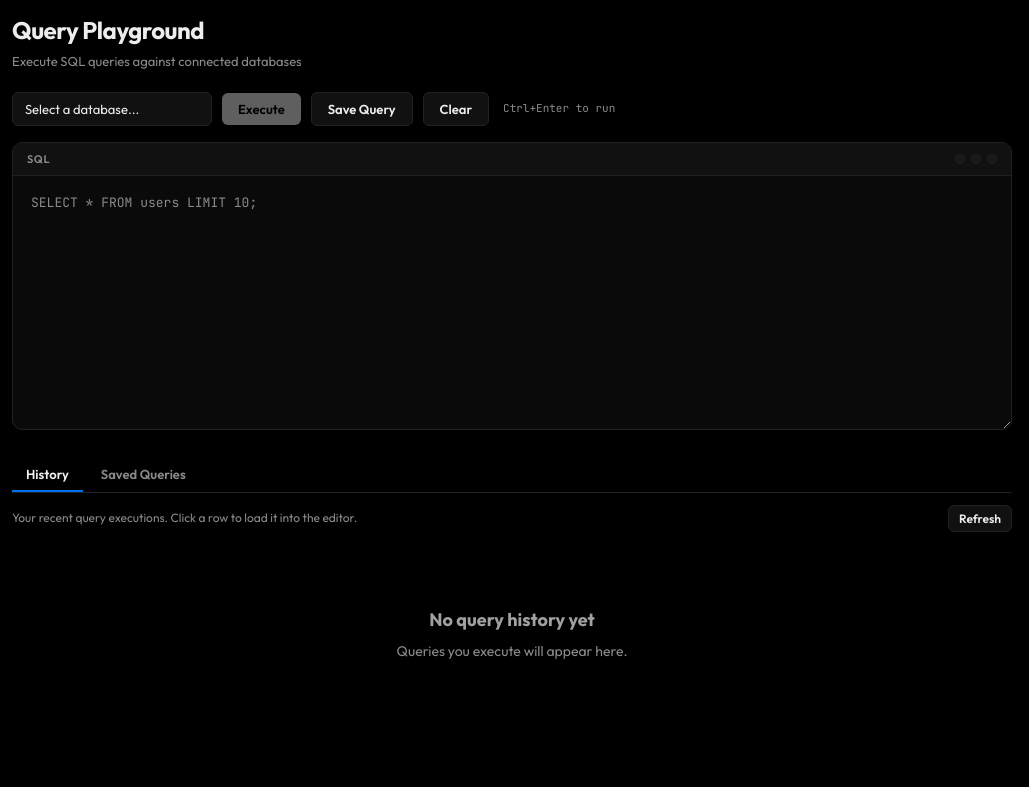
Test: QueryPlayground › clears editor text and stale results
Select "test-db" in the dropdown named "Database" at (112, 108), box x1=12 y1=92 x2=212 y2=126
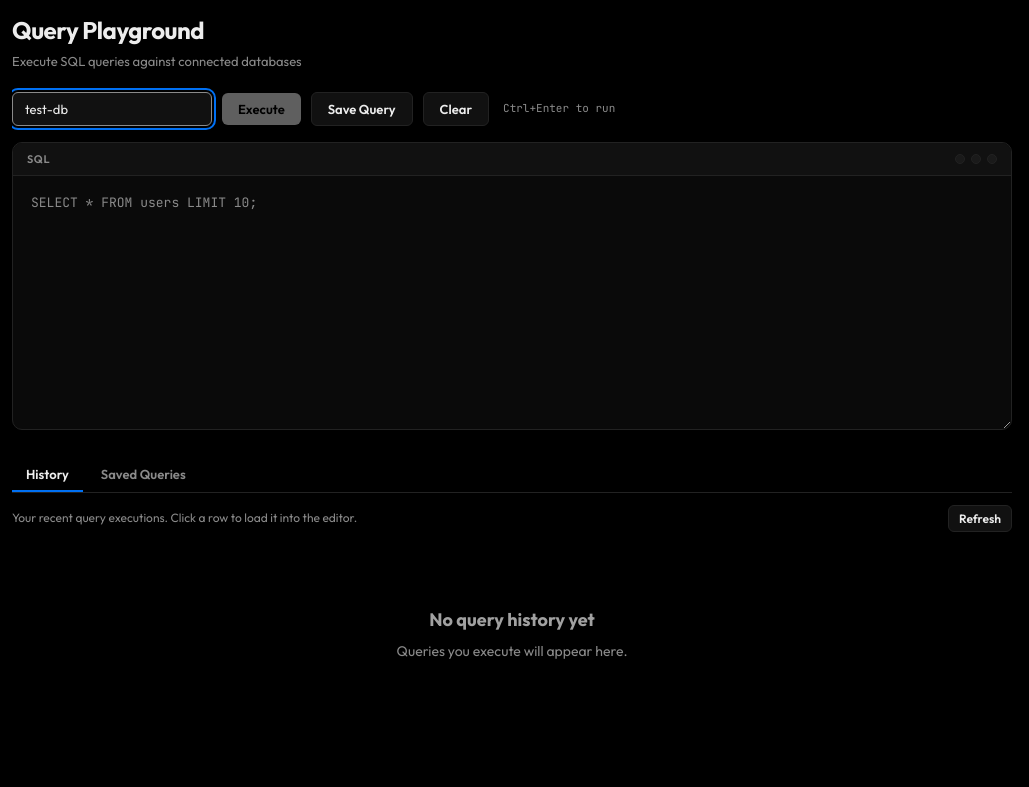
Type "SELECT * FROM users" into the text box named "SQL editor" at (512, 302), box x1=13 y1=176 x2=1011 y2=429
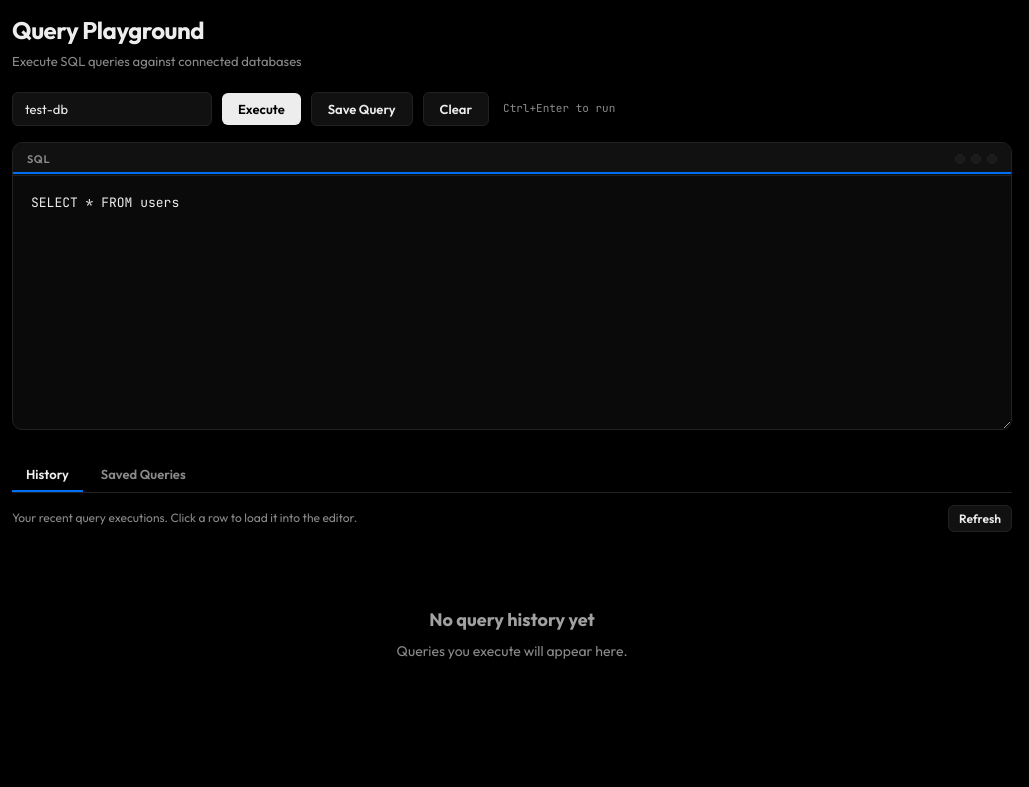
Click the button "Execute" at (261, 108), box x1=222 y1=92 x2=301 y2=124
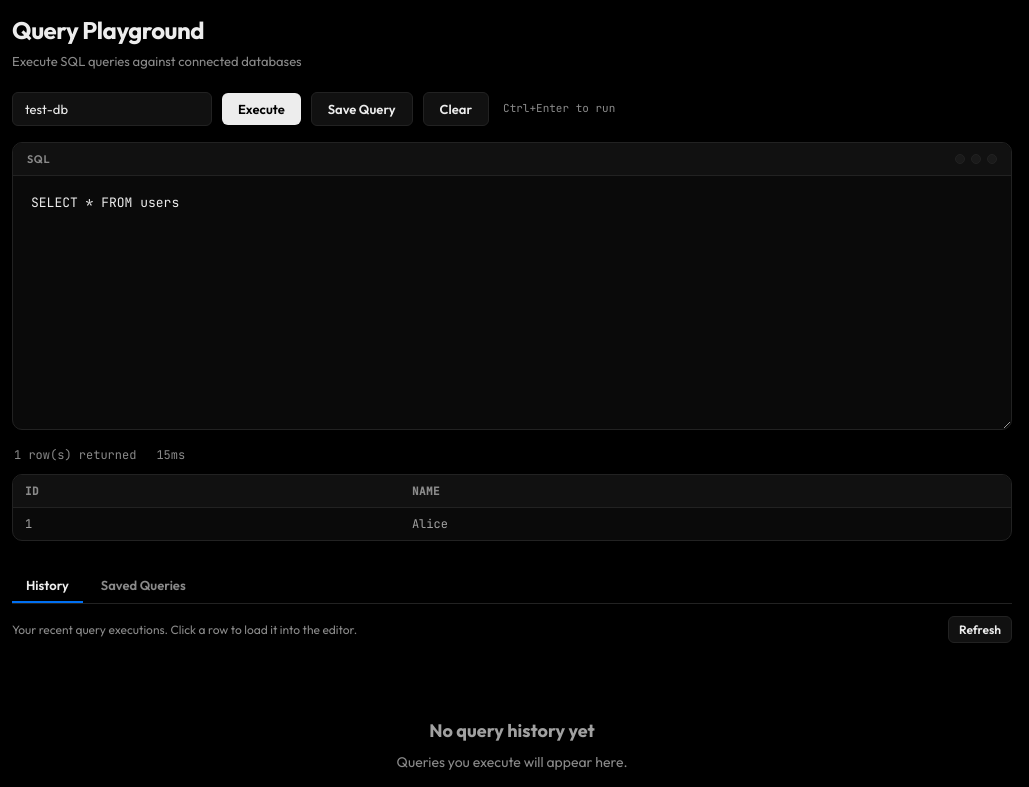
Result: the text "Alice" is shown at x1=400 y1=508 x2=1011 y2=540
Click the button "Clear" at (456, 108), box x1=423 y1=92 x2=489 y2=126
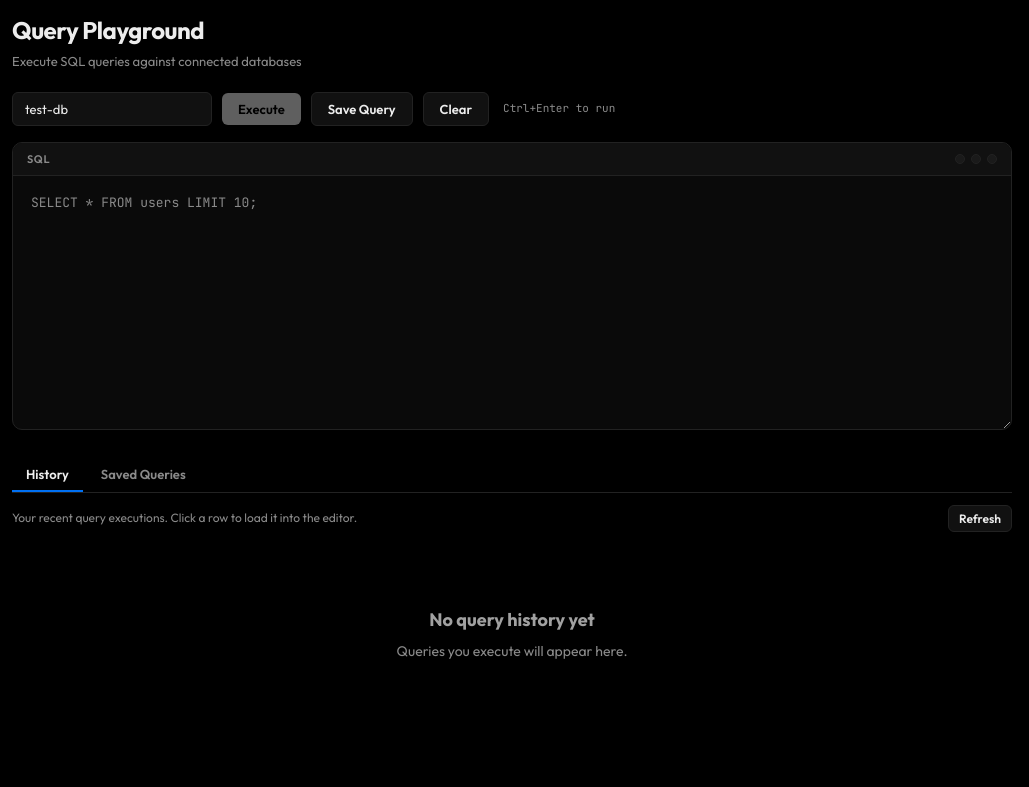
Result: the text box named "SQL editor" is empty at x1=13 y1=176 x2=1011 y2=429
Result: the text "Alice" is gone
